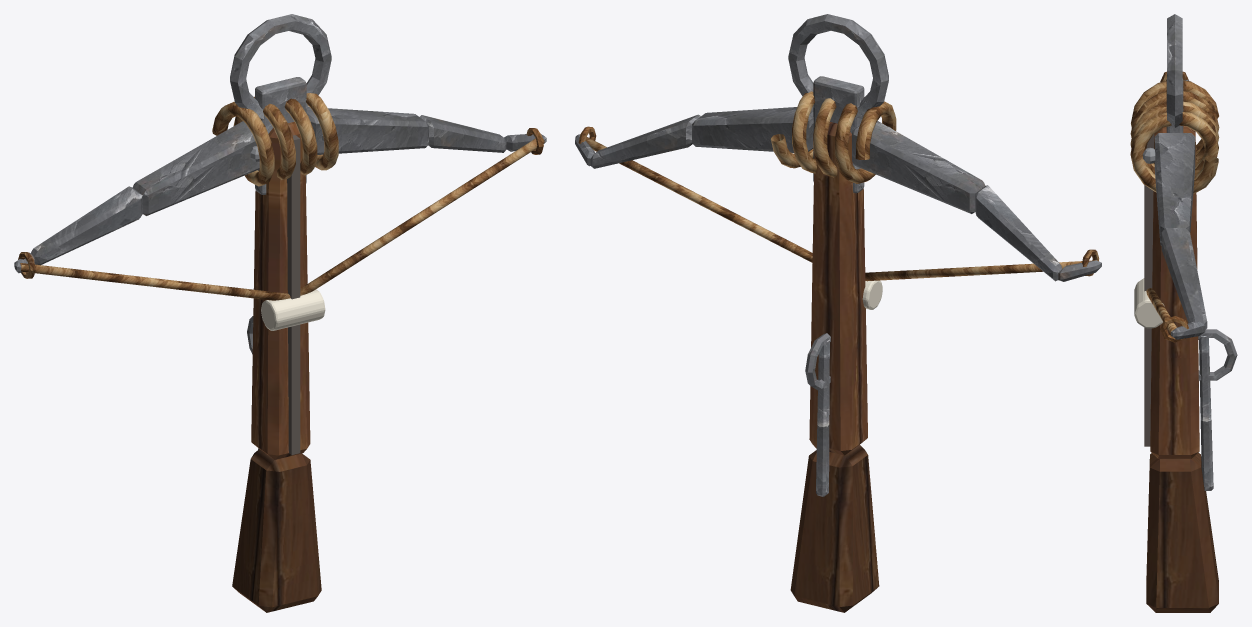
The model's file is crossbow_silver.glb.
The picture shows the model from 3 angles, left to right: view 1: azimuth 30°, elevation 25°; view 2: azimuth 150°, elevation 25°; view 3: azimuth 270°, elevation 25°; orthographic projection.
Parts seen in each view (by area): view 1: model; view 2: model; view 3: model.
Boxes of the visible parts, box(x1,y1,x2,y2) form: model: box(14, 14, 546, 612); model: box(575, 14, 1101, 612); model: box(1130, 14, 1237, 612).
Bounding box in the file's own units: 0.74 × 0.7792 × 0.13.
Materials: 9 (6 with a texture image).
